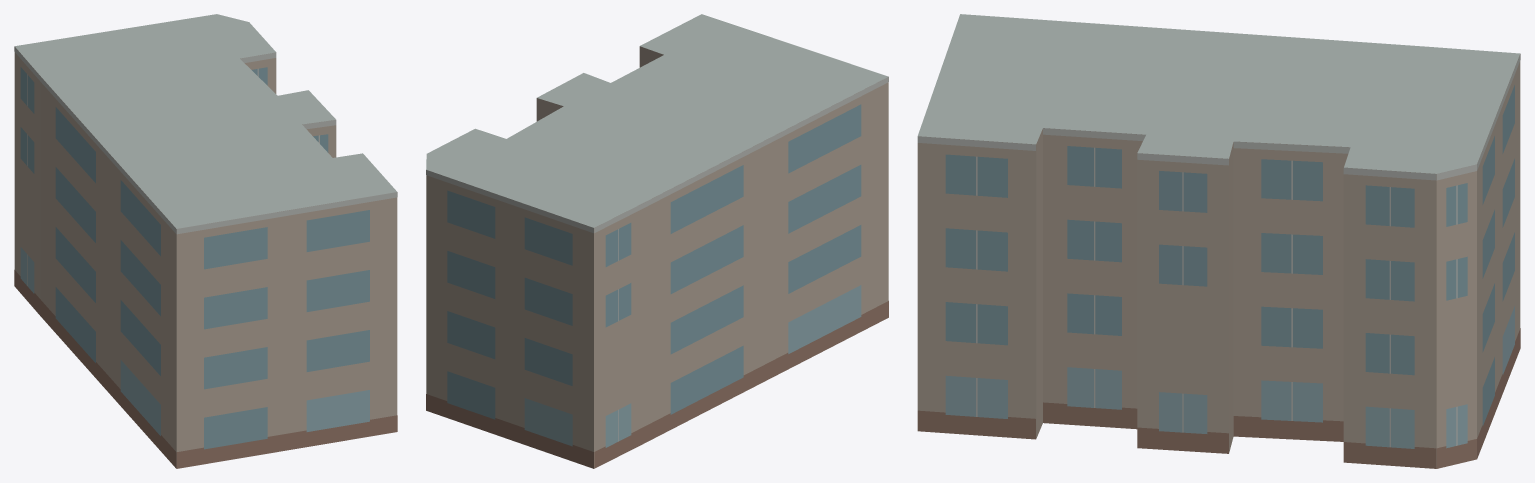
File: survey-upis-32690090.glb
3 views of the same model, side by side, from view 1: azimuth 30°, elevation 25°; view 2: azimuth 150°, elevation 25°; view 3: azimuth 270°, elevation 25° (orthographic). The views are drawn at different scales.
Parts seen in each view (by area): view 1: survey-upis-32690090.tmp; view 2: survey-upis-32690090.tmp; view 3: survey-upis-32690090.tmp.
Boxes of the visible parts, x1,y1,x2,y2 form: survey-upis-32690090.tmp: (14,14,397,468); survey-upis-32690090.tmp: (426,14,888,468); survey-upis-32690090.tmp: (917,14,1520,468).
Bounding box in the file's own units: 12.56 × 10.8 × 20.01.
